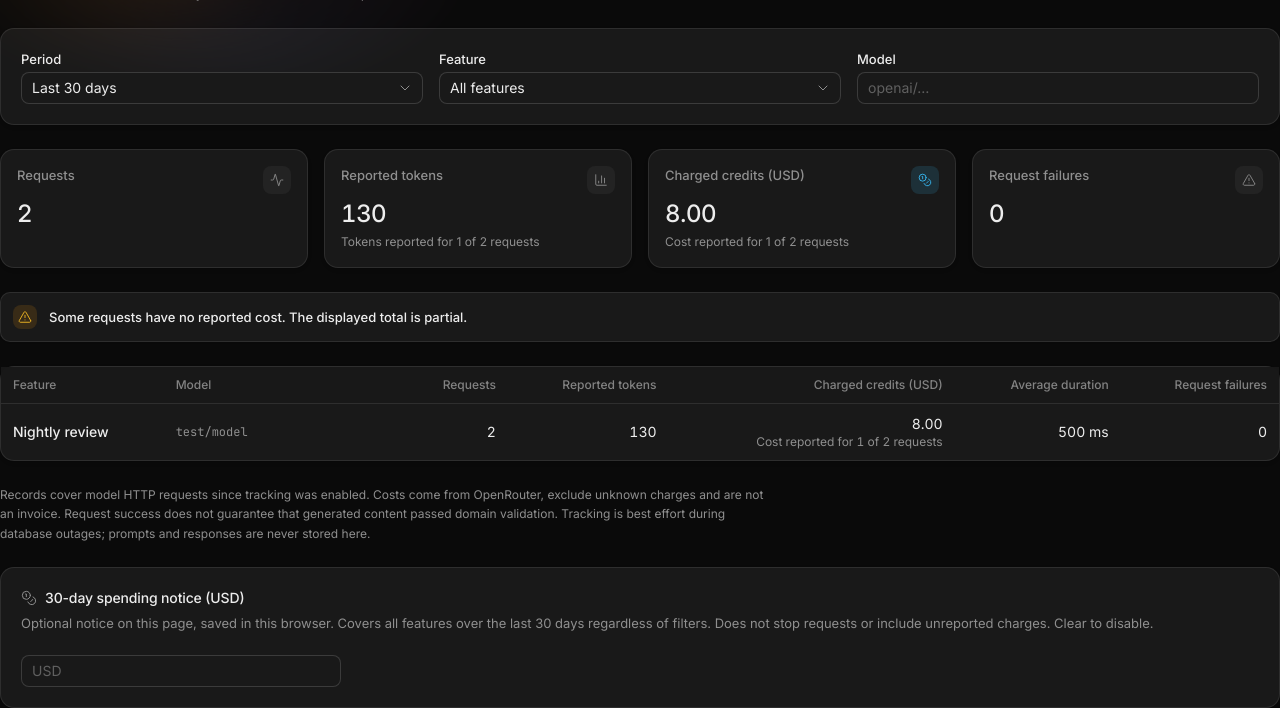
labels incomplete costs and warns about the browser budget independently of model filters
(page scrolled)
Expected: the text "Some requests have no reported cost. The displayed total is partial." is shown, [49,309,467,325]
In the number field named "30-day spending notice (USD)": (181, 670) [21,654,341,686], type "10"
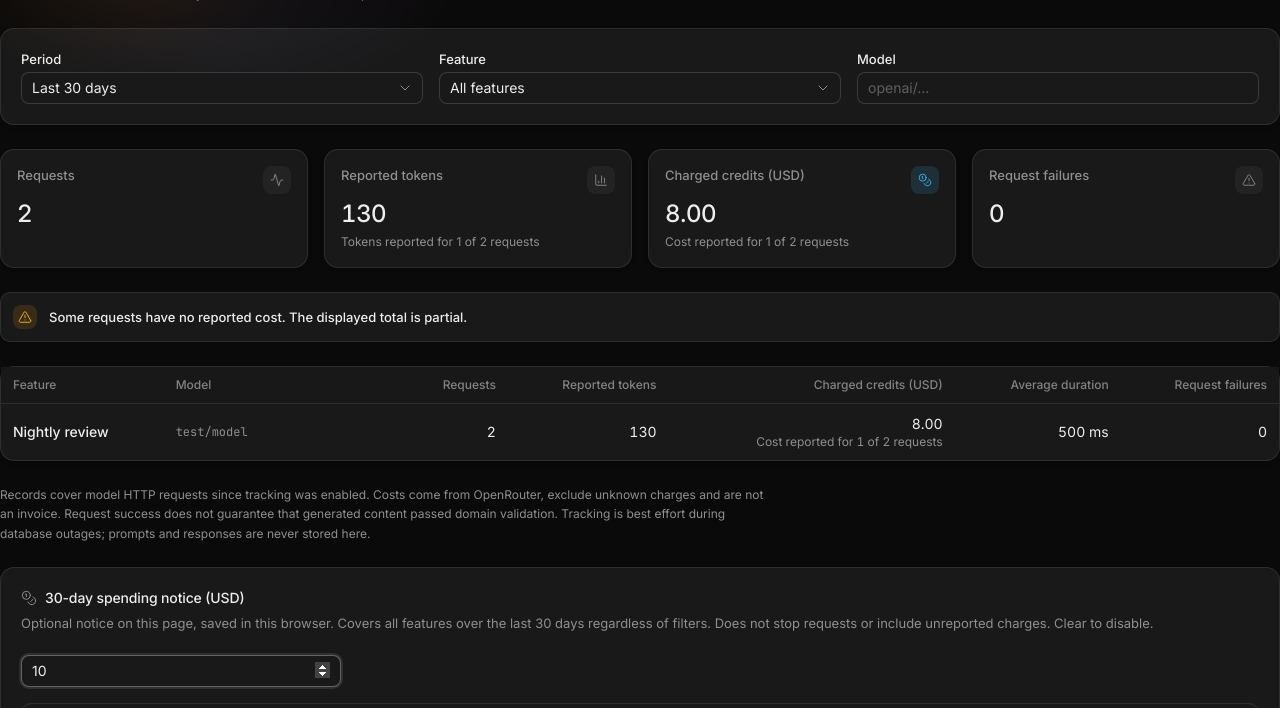
In the search field labelled "Model": (1058, 88) [857,72,1259,104], type "absent"
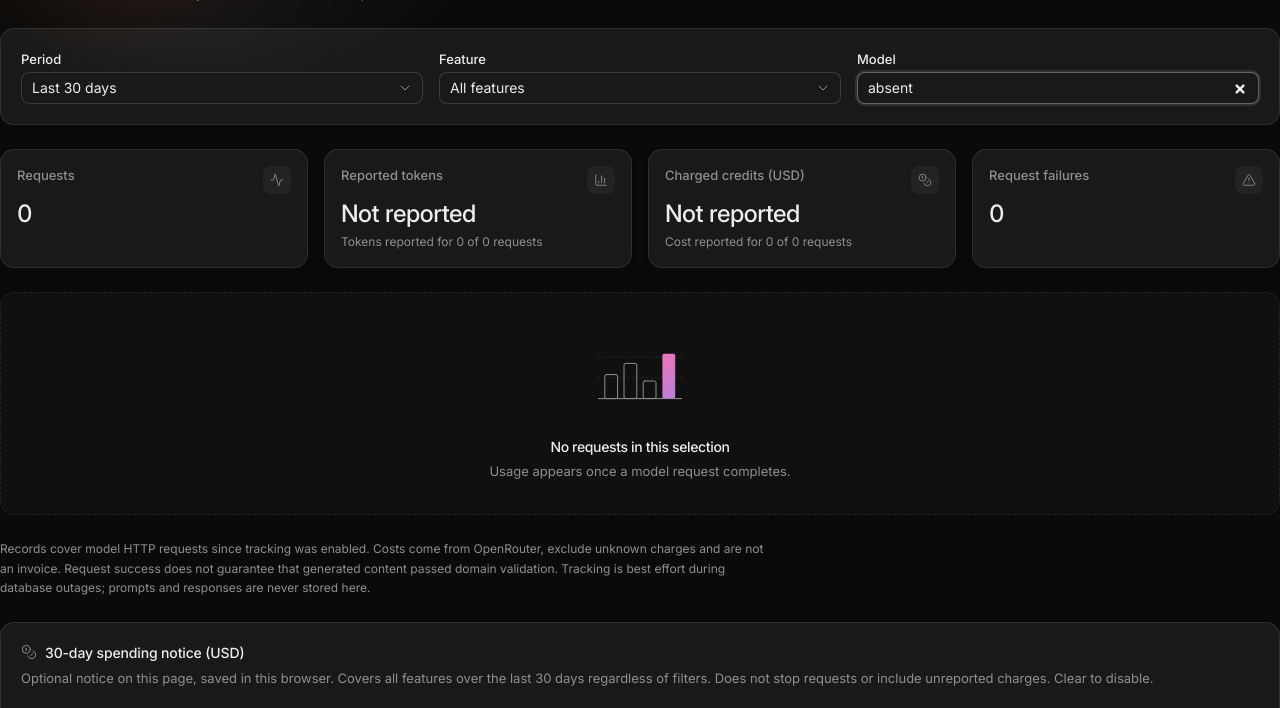
Now the heading "No requests in this selection" is shown, box [550,437,730,457]
